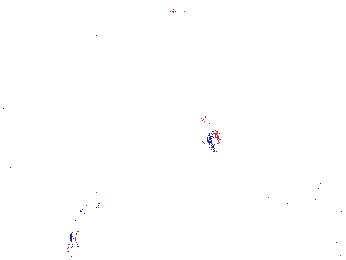X-ray fish: (187, 114, 223, 154)
glassfish: (180, 135, 277, 198), (67, 159, 122, 252)
redtail glassfish: (164, 1, 208, 20)
